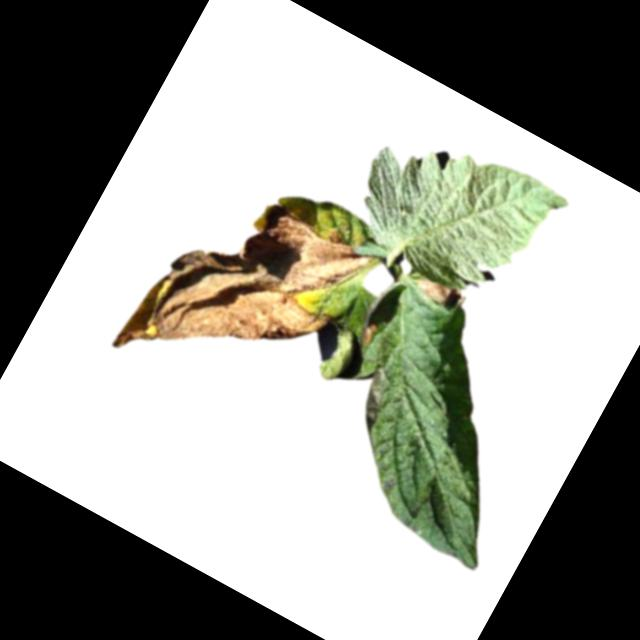Late_blight: (110, 159, 383, 440), (346, 364, 402, 435), (410, 268, 470, 318), (354, 318, 384, 351)
